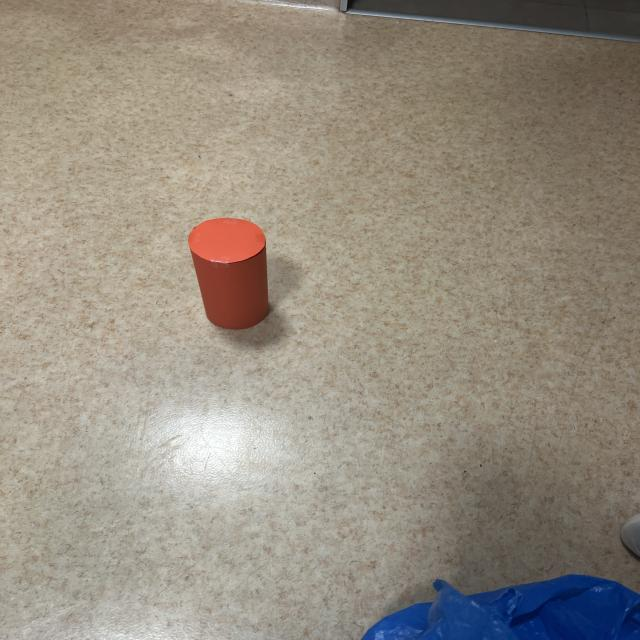przeszkoda: (188, 218, 269, 329)
